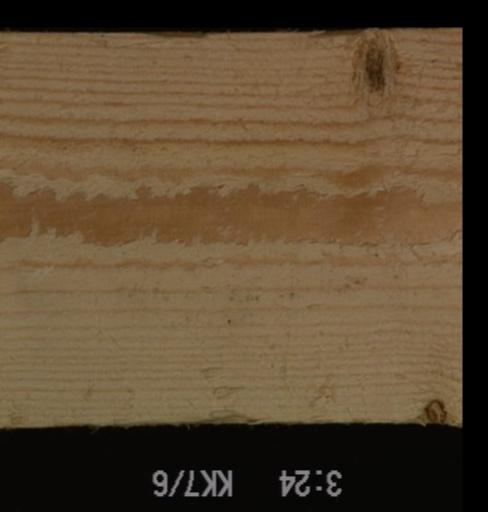edge_knot: (420, 397, 448, 424)
wave: (134, 29, 213, 51)
